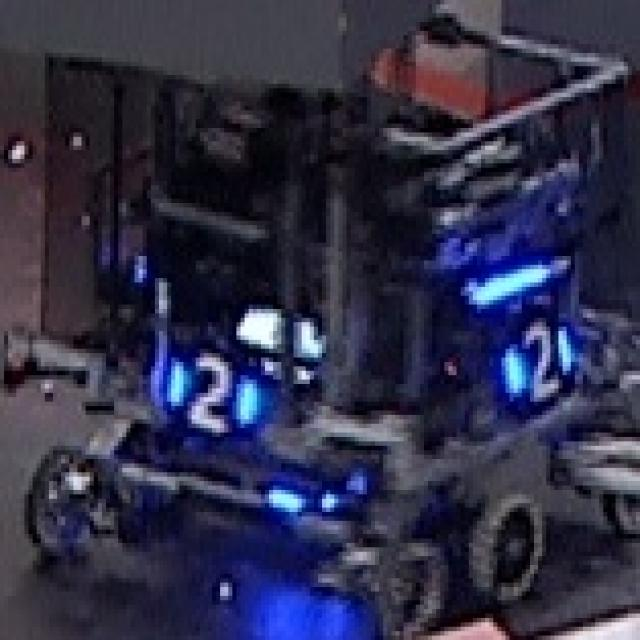B2: (145, 340, 275, 446), (481, 305, 583, 406)
